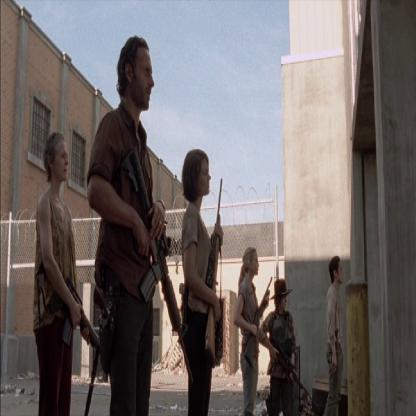Guns: (119, 141, 193, 386), (33, 250, 97, 352), (202, 174, 225, 368), (242, 274, 271, 372), (269, 336, 312, 400), (92, 282, 115, 378)
